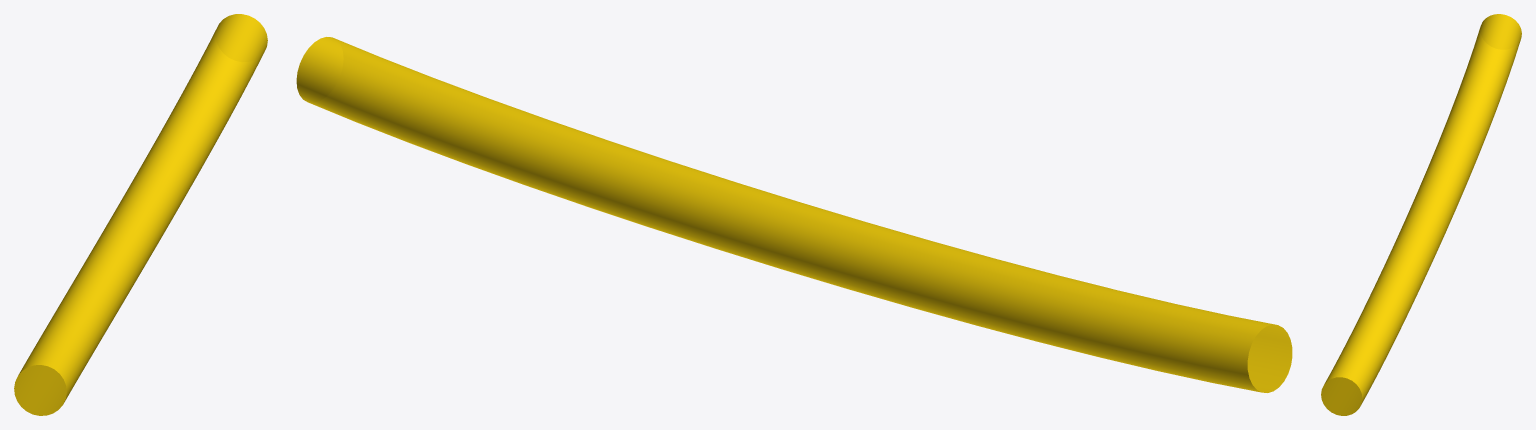
Rendered from Event_420094457_track_72.fbx.
The picture shows the model from 3 angles, left to right: view 1: azimuth 90°, elevation 25°; view 2: azimuth 150°, elevation 25°; view 3: azimuth 270°, elevation 25°; orthographic projection. The views are drawn at different scales.
Parts seen in each view (by area): view 1: Model; view 2: Model; view 3: Model.
Part boxes in pixels (box(x1,y1,x2,y2)): Model: box(14, 14, 267, 415); Model: box(296, 37, 1292, 392); Model: box(1321, 14, 1521, 415).
Bounding box in the file's own units: 0.7263 × 0.0851 × 0.1894.
